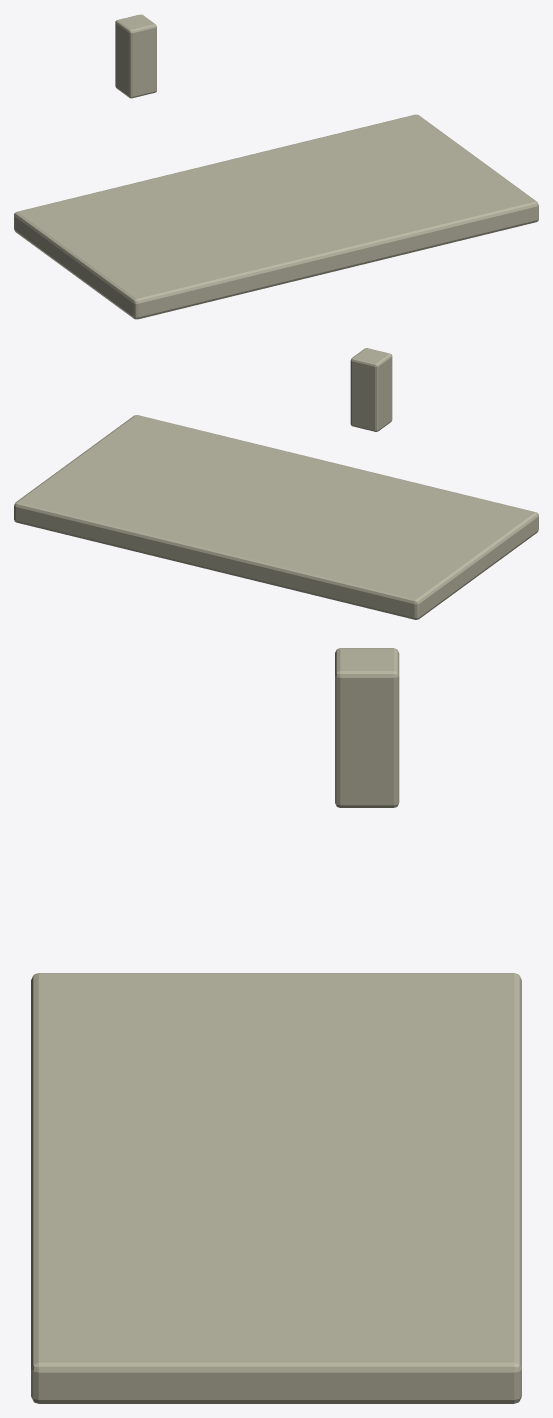
Rendered from SM_StationStone.fbx.
The picture shows the model from 3 angles, top to bottom: view 1: azimuth 30°, elevation 25°; view 2: azimuth 150°, elevation 25°; view 3: azimuth 270°, elevation 25°; orthographic projection. The views are drawn at different scales.
Parts seen in each view (by area): view 1: SM_StationStone; view 2: SM_StationStone; view 3: SM_StationStone.
Boxes of the visible parts, x1,y1,x2,y2 form: SM_StationStone: [14, 14, 538, 319]; SM_StationStone: [14, 348, 538, 619]; SM_StationStone: [31, 648, 521, 1403].
Size of the model in its own units: 1240 by 650 by 635.
